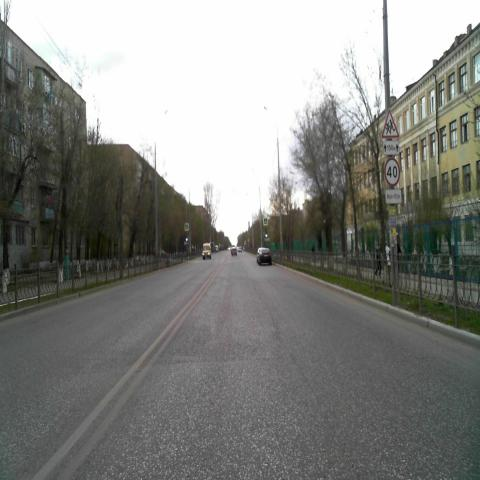8_5_4: (385, 188, 402, 204)
